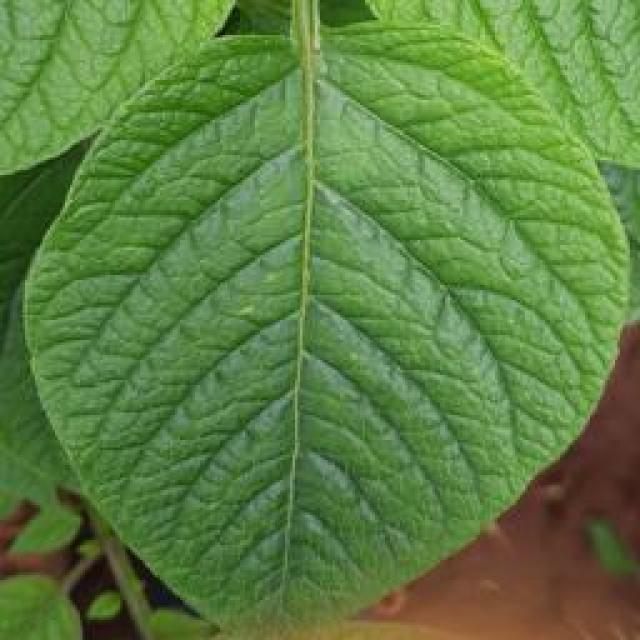healthy: (15, 12, 635, 632)
